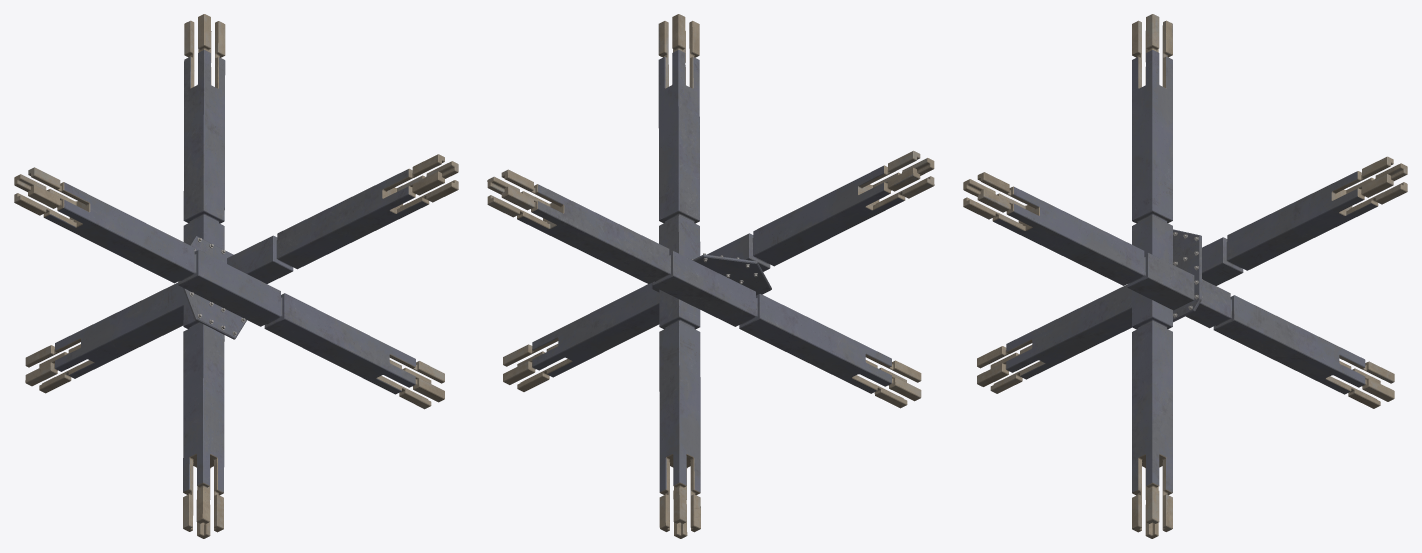
The model's file is KB3D_FTW_PropAntiTankHedgehog_A_grp.glb.
The picture shows the model from 3 angles, left to right: view 1: azimuth 30°, elevation 25°; view 2: azimuth 150°, elevation 25°; view 3: azimuth 270°, elevation 25°; orthographic projection.
Visible parts, largest first — view 1: KB3D_FTW_PropAntiTankHedgehog_A_Main; view 2: KB3D_FTW_PropAntiTankHedgehog_A_Main; view 3: KB3D_FTW_PropAntiTankHedgehog_A_Main.
Part boxes in pixels (x1,y1,x2,y2): KB3D_FTW_PropAntiTankHedgehog_A_Main: (14,14,458,538); KB3D_FTW_PropAntiTankHedgehog_A_Main: (487,14,934,538); KB3D_FTW_PropAntiTankHedgehog_A_Main: (963,14,1407,538).
Bounding box in the file's own units: 5.02 × 3.75 × 4.5.
3 materials, 3 textured.
